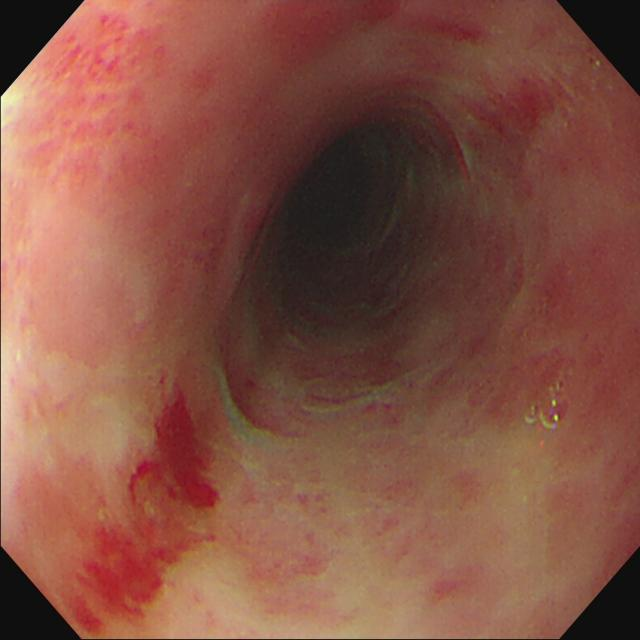A: (432, 249, 640, 422), (2, 2, 171, 195), (349, 433, 484, 610), (234, 489, 335, 612), (471, 74, 558, 181)
C: (71, 384, 224, 640)
T: (536, 393, 574, 436)
